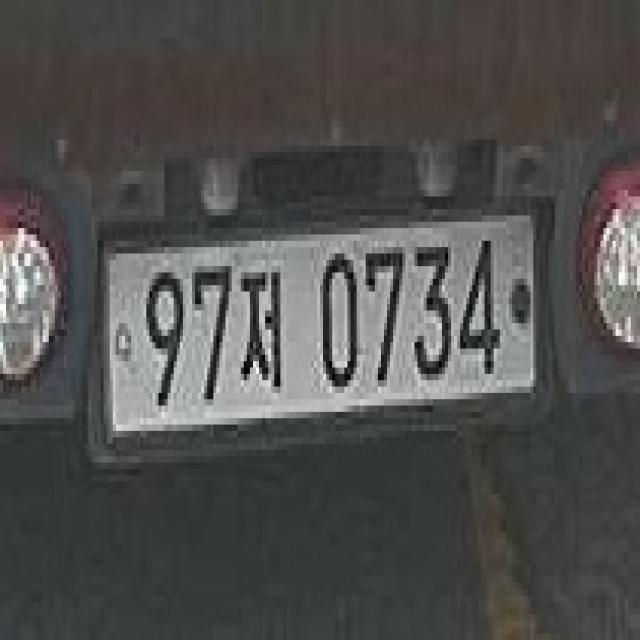0: (314, 242, 361, 400)
3: (414, 232, 456, 395)
4: (459, 233, 506, 383)
7: (361, 240, 409, 400), (190, 260, 233, 410)
9: (141, 262, 186, 414)
jeo: (238, 261, 290, 399)
license_plate: (101, 206, 544, 449)
